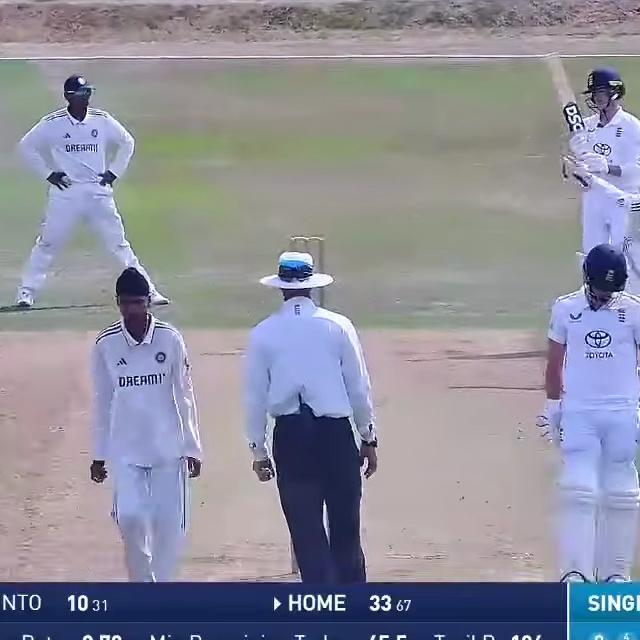umpire: (228, 226, 382, 588)
